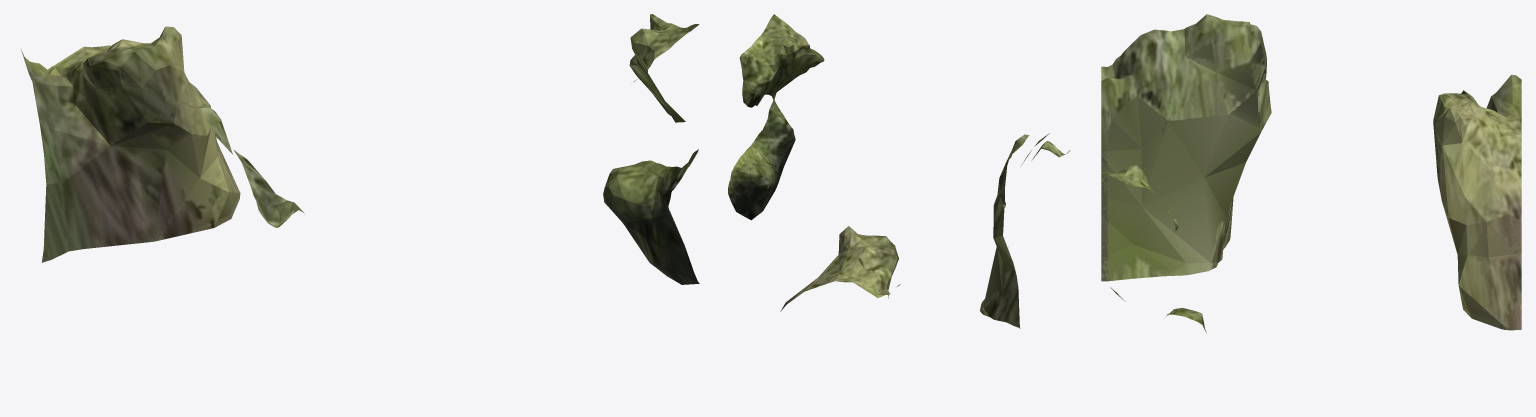
The picture shows the model from 3 angles, left to right: view 1: azimuth 30°, elevation 25°; view 2: azimuth 150°, elevation 25°; view 3: azimuth 270°, elevation 25°; orthographic projection. The views are drawn at different scales.
Size of the model in its own units: 5.9 by 3.84 by 5.9.
2 materials, 2 textured.
